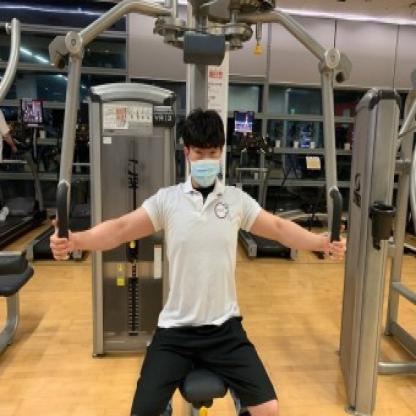chest fly machine: (37, 0, 367, 416)
